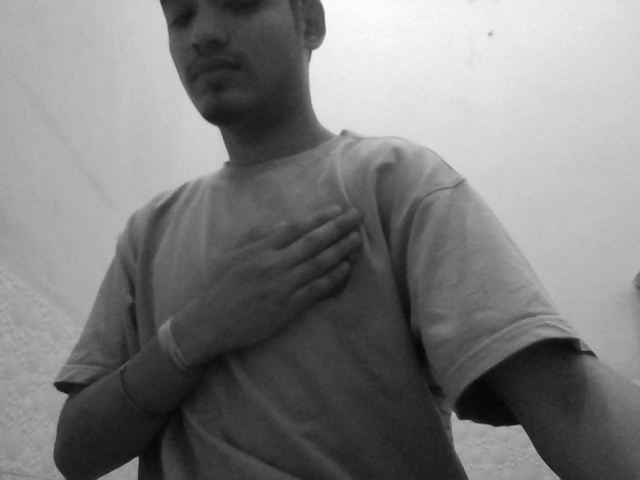Sorry: (176, 169, 449, 377)
